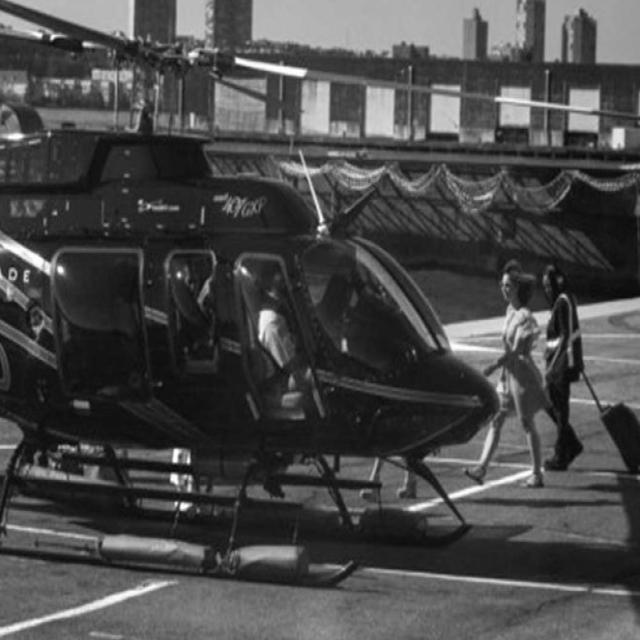helicopter: (1, 6, 506, 602)
